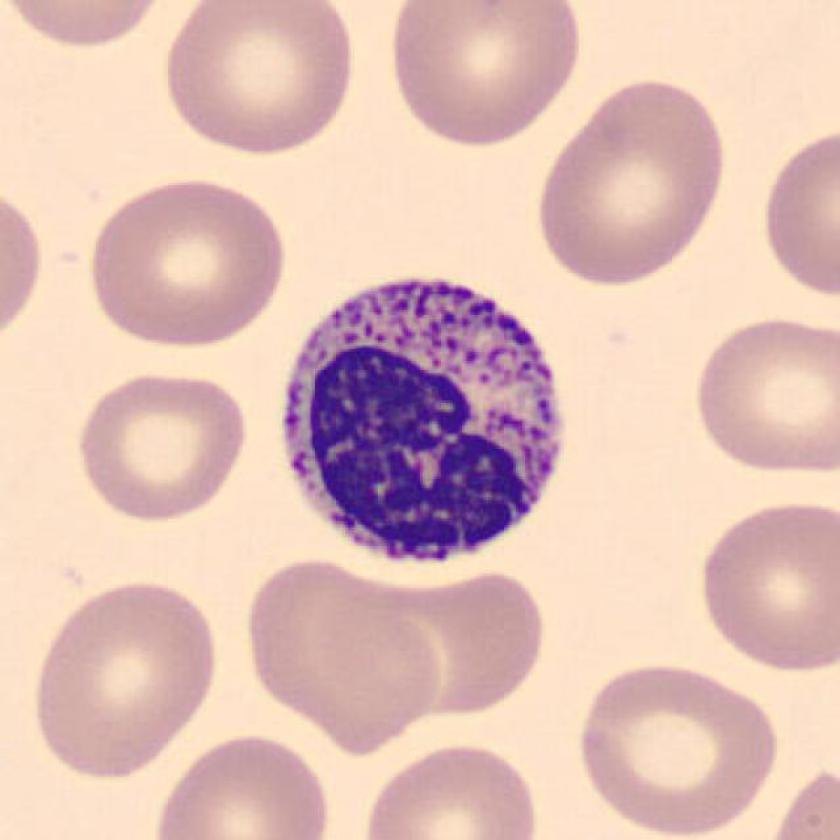neutrophil: (287, 278, 567, 561)
